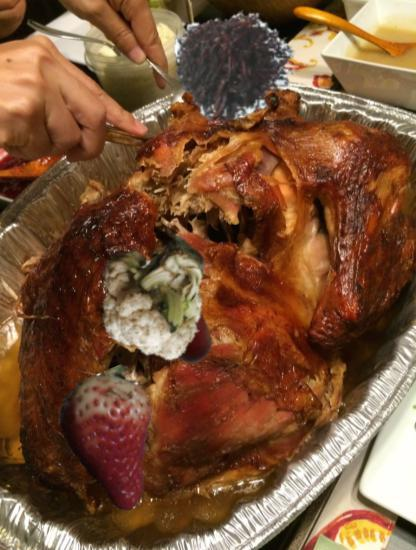Cauliflower: (91, 230, 218, 357)
Nectarine: (145, 292, 219, 366)
Rambutan: (172, 1, 300, 129)
Strawberry: (48, 372, 186, 510)
